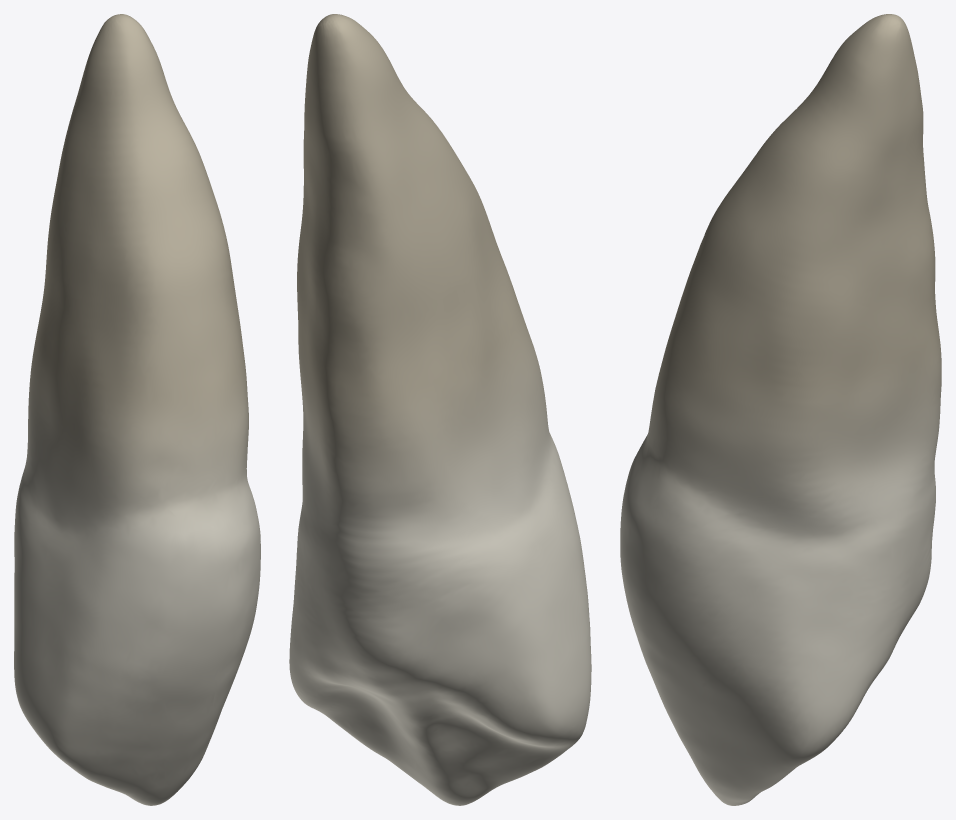
3 views of the same model, side by side, from view 1: azimuth 30°, elevation 25°; view 2: azimuth 150°, elevation 25°; view 3: azimuth 270°, elevation 25° (orthographic). The views are drawn at different scales.
Visible parts, largest first — view 1: Tooth_23_0; view 2: Tooth_23_0; view 3: Tooth_23_0.
Part boxes in pixels (<box>): Tooth_23_0: <box>14,14,260,805</box>; Tooth_23_0: <box>289,14,591,805</box>; Tooth_23_0: <box>620,14,941,805</box>.
Bounding box in the file's own units: 0.95 × 2.96 × 1.07.
